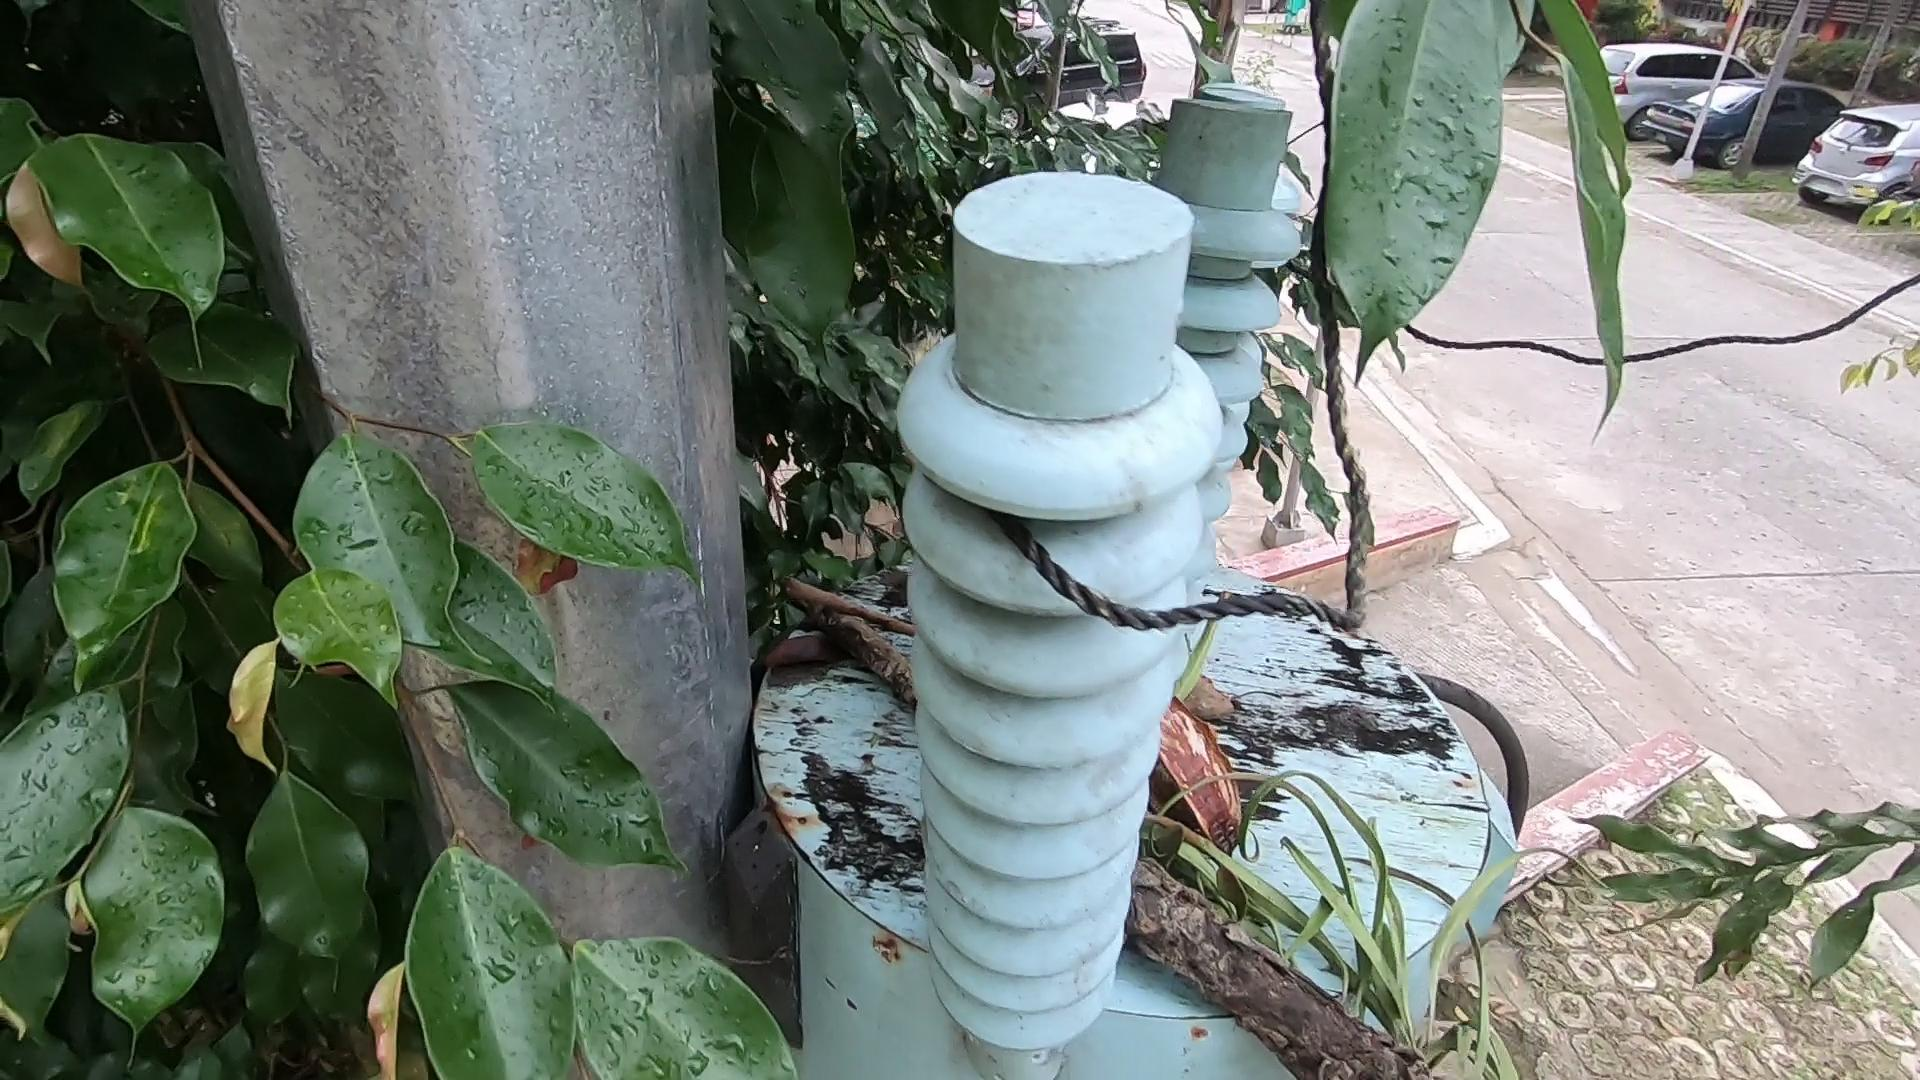branch with leaves: (800, 593, 1480, 1080)
leaf: (762, 618, 853, 694)
mahogany fruit: (1106, 646, 1279, 890), (1183, 665, 1254, 717)
tree branch: (781, 563, 934, 647)
